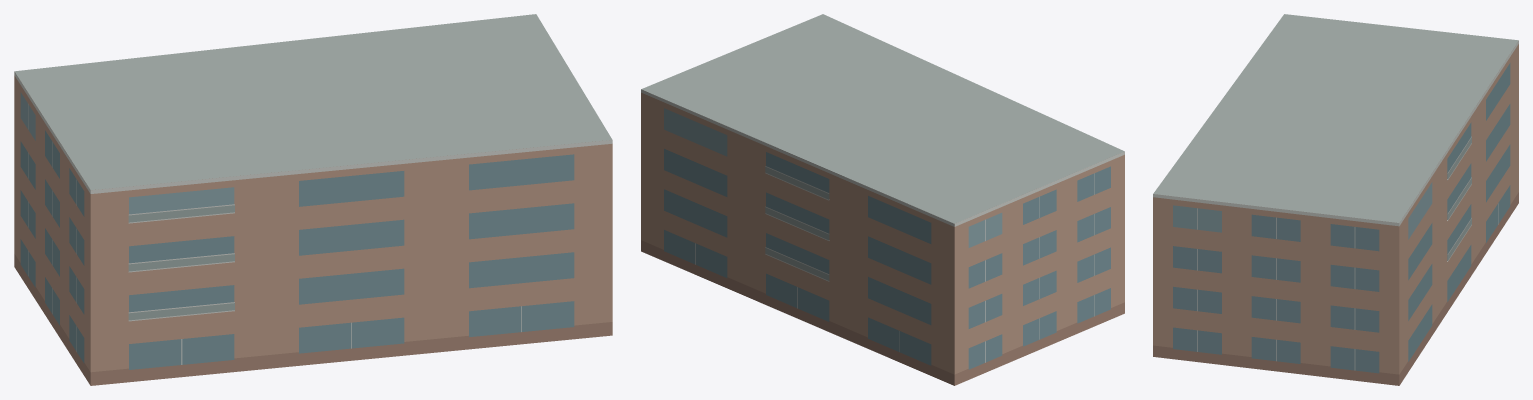
File: residential-82f9e883-6254-441f-996e-b4eb51273719.glb
3 renders of one model, left to right at view 1: azimuth 30°, elevation 25°; view 2: azimuth 150°, elevation 25°; view 3: azimuth 270°, elevation 25°, orthographic. The views are drawn at different scales.
Parts seen in each view (by area): view 1: residential-82f9e883-6254-441f-996e-b4eb51273719.tmp; view 2: residential-82f9e883-6254-441f-996e-b4eb51273719.tmp; view 3: residential-82f9e883-6254-441f-996e-b4eb51273719.tmp.
Boxes of the visible parts, x1,y1,x2,y2 form: residential-82f9e883-6254-441f-996e-b4eb51273719.tmp: [14, 14, 612, 385]; residential-82f9e883-6254-441f-996e-b4eb51273719.tmp: [641, 14, 1124, 385]; residential-82f9e883-6254-441f-996e-b4eb51273719.tmp: [1153, 14, 1518, 385].
Size of the model in its own units: 33.59 by 12.2 by 24.85.
